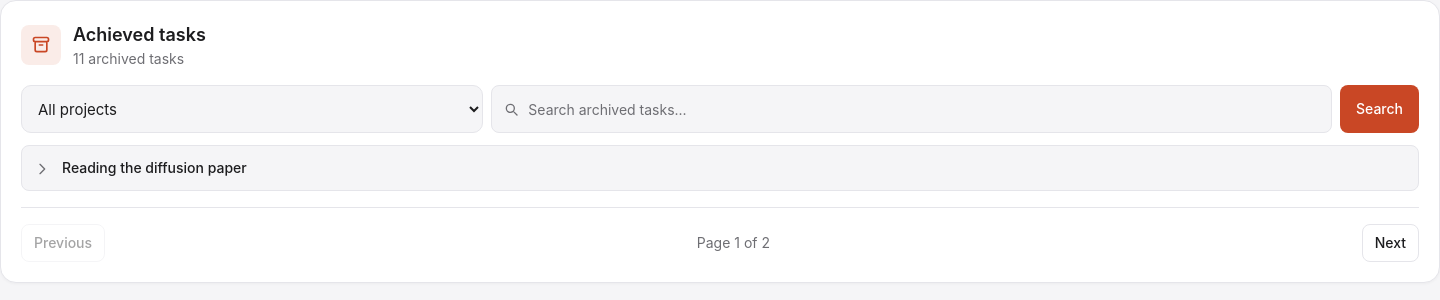
Test: AchievedTaskManager › loads the next ten-task page
The image size is (1440, 300).
Expected: the text "Reading the diffusion paper" is shown, [62,159,247,176]
Click the button "Next".
click(1390, 243)  # box [1362,224,1419,262]
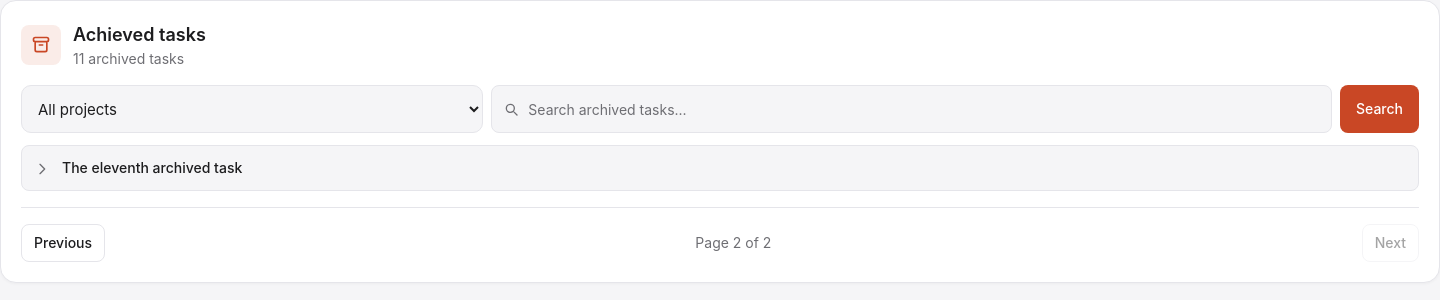
Expected: the text "The eleventh archived task" is shown, [62,159,242,176]
Expected: the text "Page 2 of 2" is shown, [695,233,771,253]
